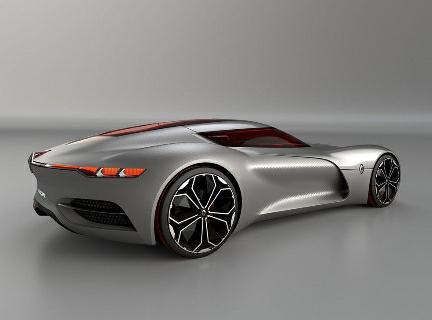雷诺-TREZOR: (23, 115, 406, 263)
